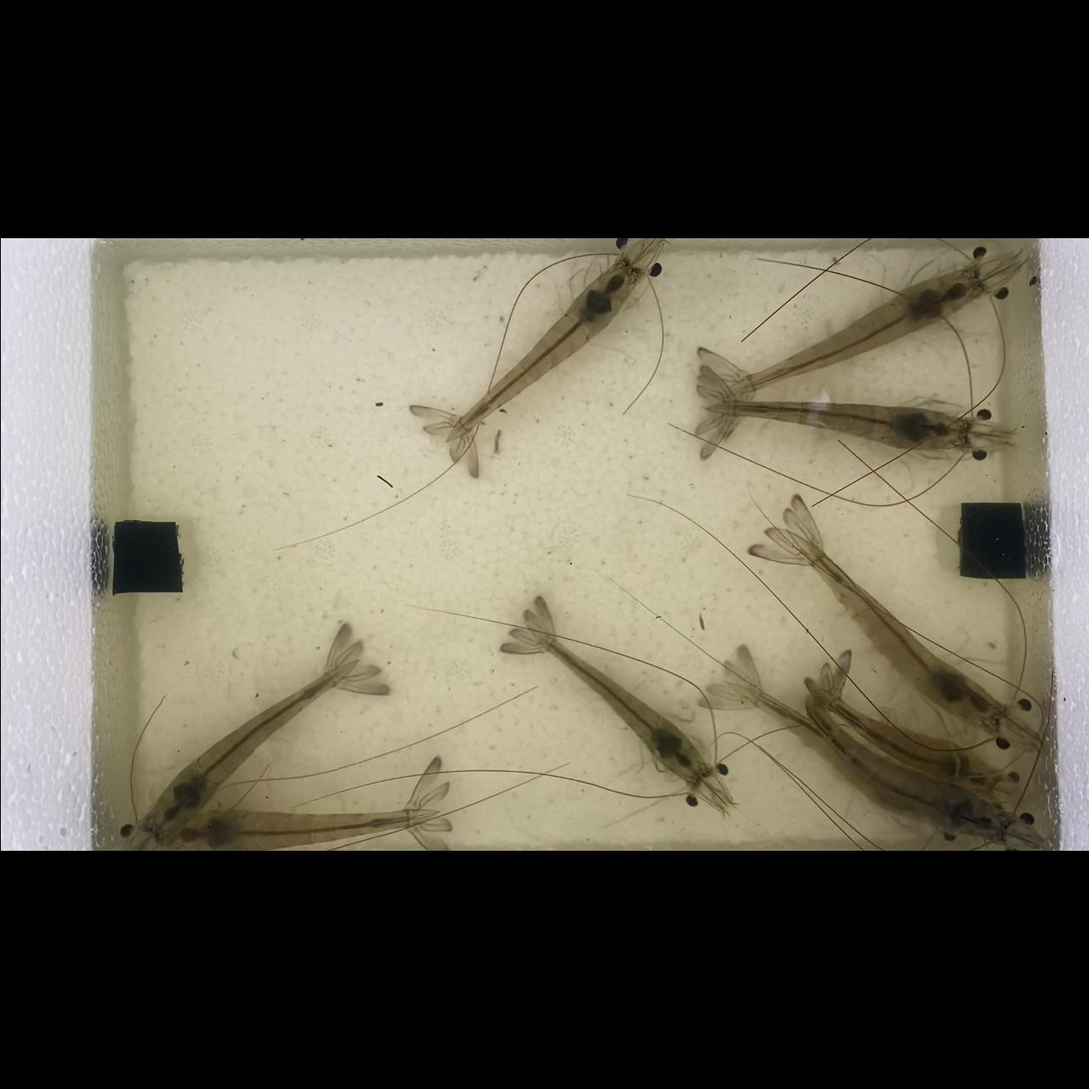box: (111, 521, 182, 594), (959, 504, 1027, 579)
top_shrimp: (784, 529, 1003, 726), (148, 659, 358, 833), (446, 268, 634, 440), (721, 271, 975, 396), (804, 686, 1002, 842), (726, 680, 939, 821), (530, 627, 703, 781), (803, 682, 988, 790), (706, 401, 966, 450), (155, 810, 439, 851)
